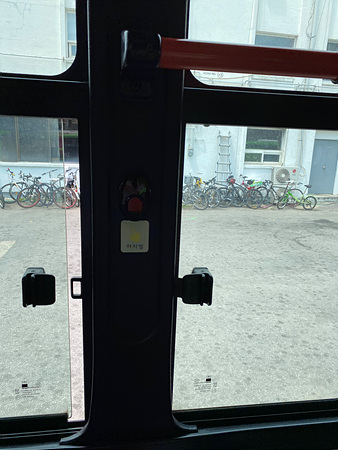bell: (118, 176, 153, 220)
